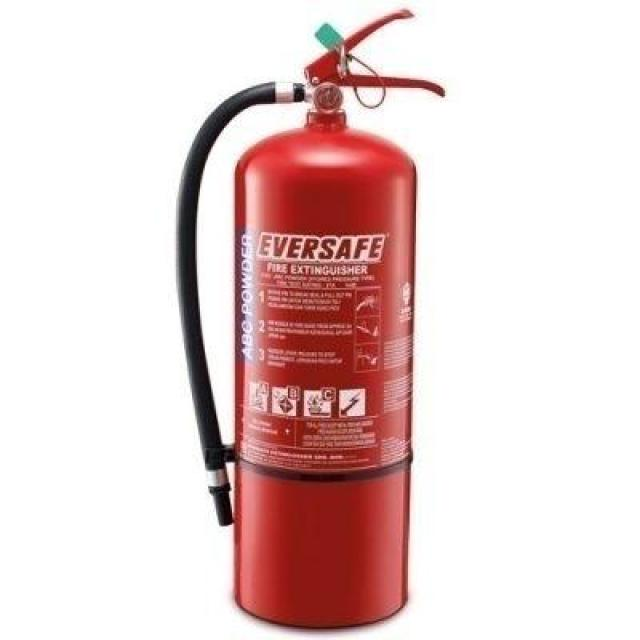fire_extinguisher: (168, 4, 451, 638)
